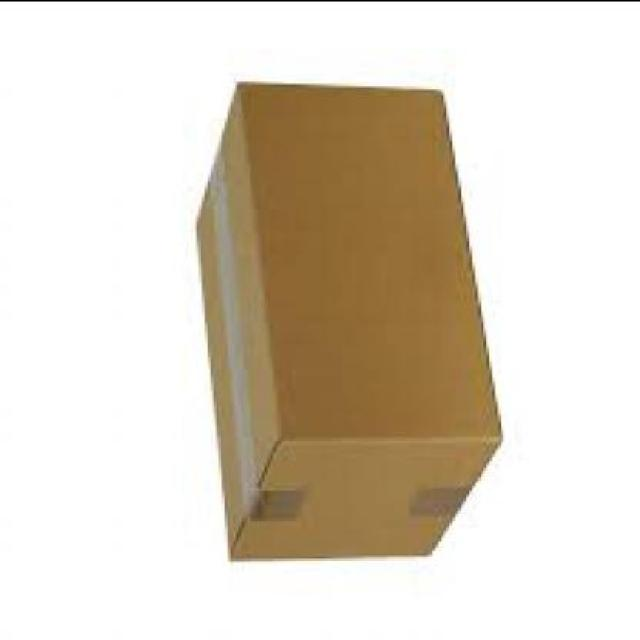CARDBOARD: (190, 88, 501, 563)
